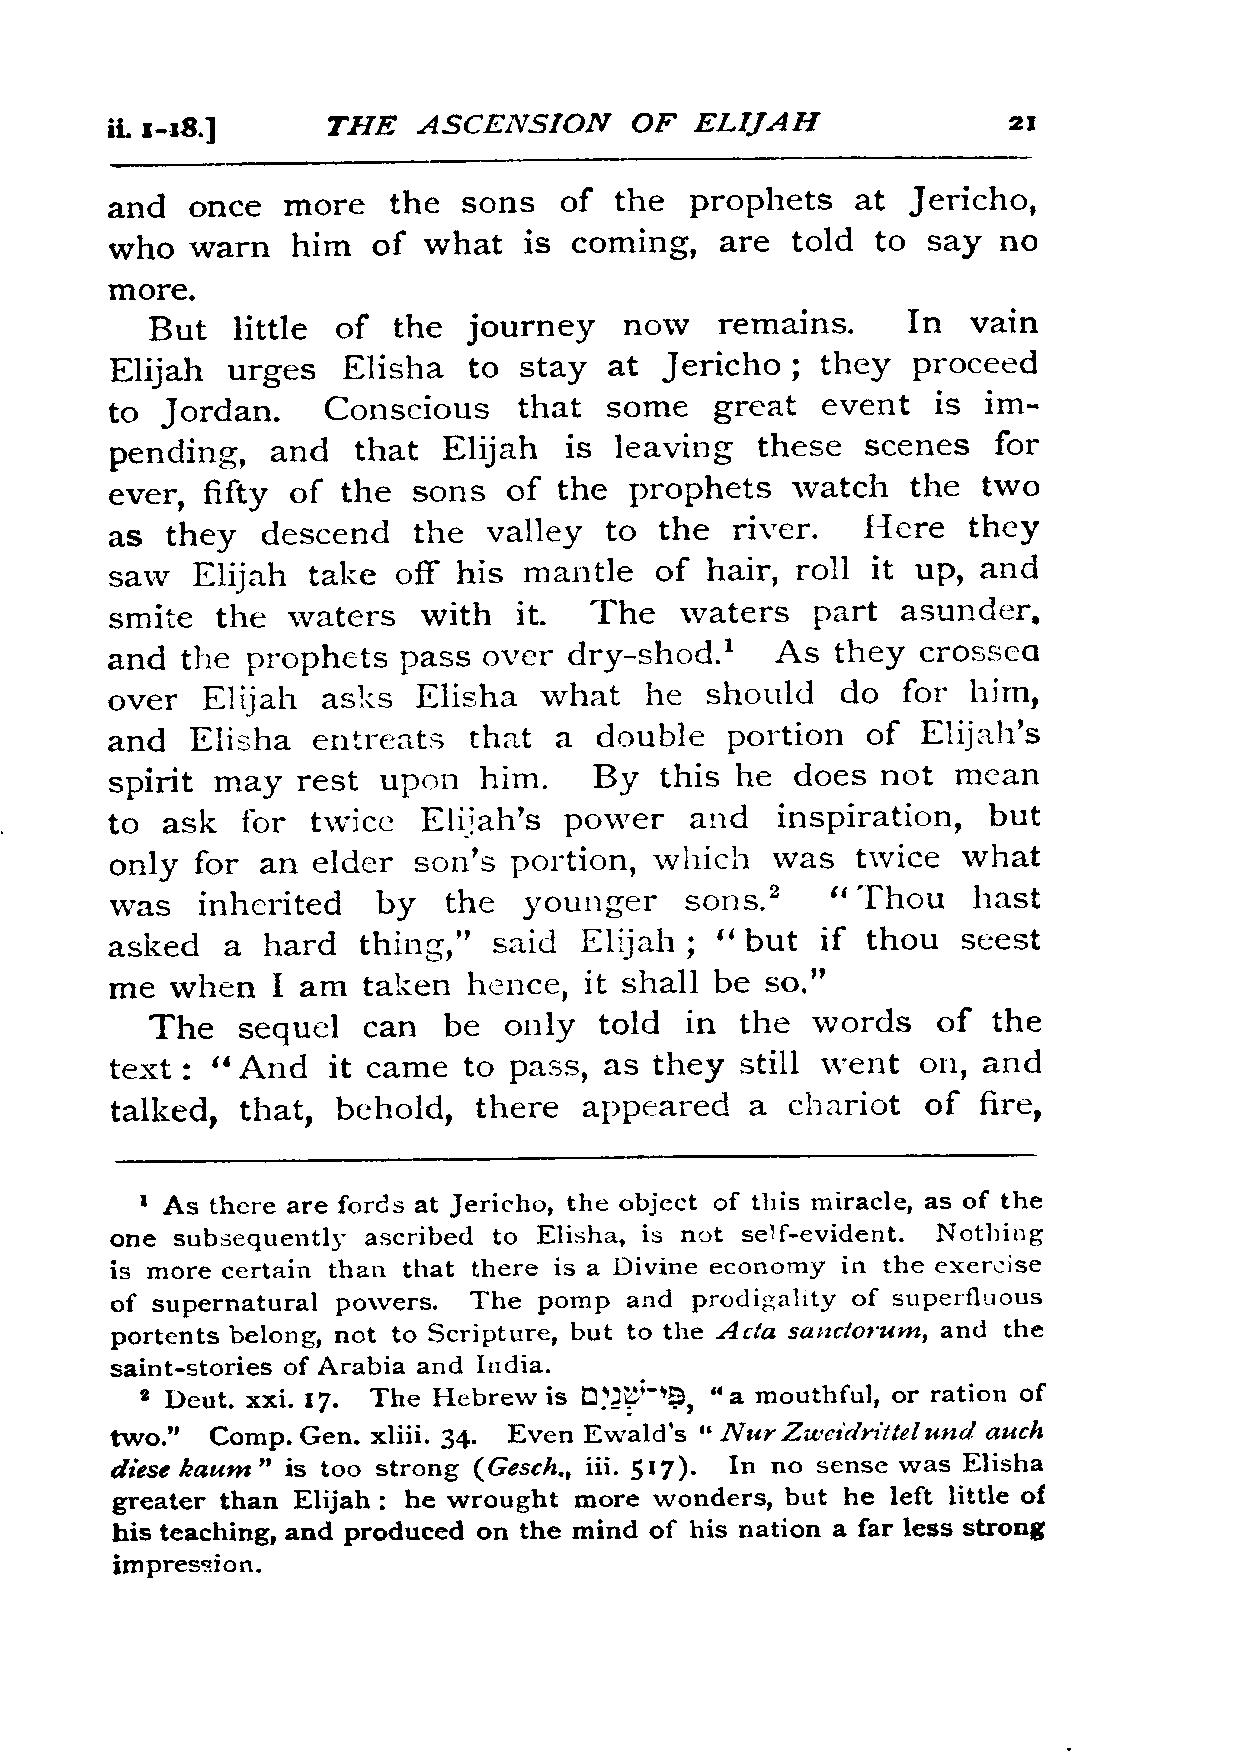content: (95, 176, 1057, 1584)
content_chapter: (322, 109, 821, 142)
content_pagenumber: (998, 101, 1041, 144)
